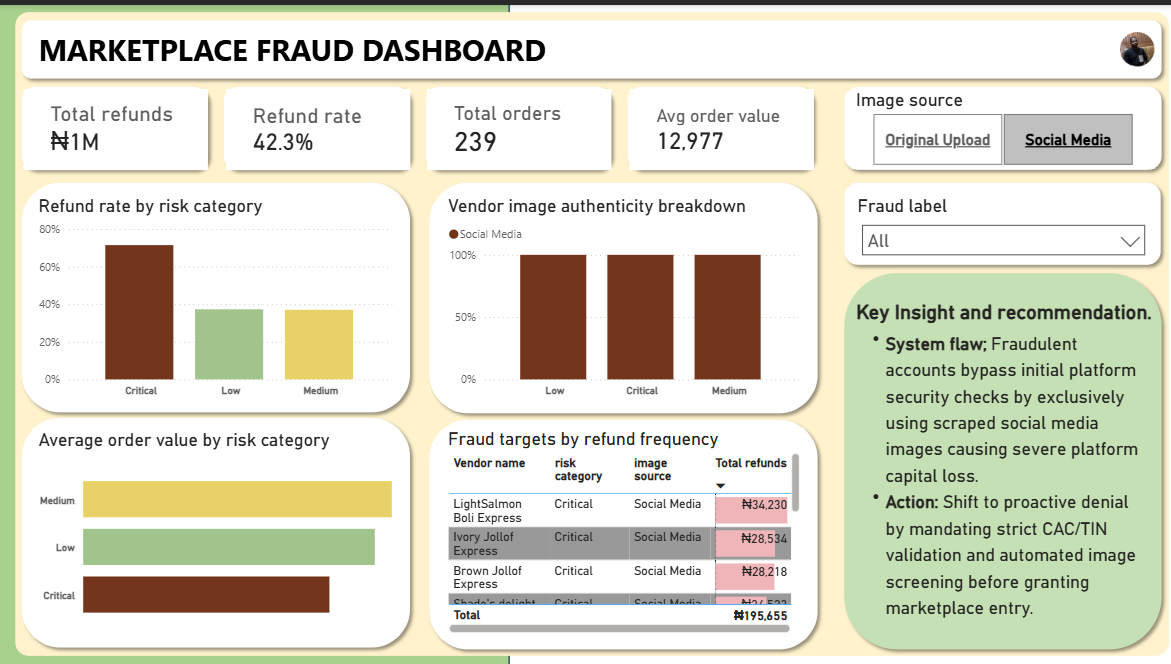

What the dashboard file says about the page in this screenshot:
{"tool":"powerbi","page":{"name":"Page 1","canvas":[1280,720],"ordinal":0},"visuals":[{"type":"cardVisual","fields":{"Data":["_key_measures.Total amount refunded"]},"box":[27.7,91.1,200.1,87.8],"z":0},{"type":"cardVisual","fields":{"Data":["_key_measures.Total refund rate %"]},"box":[247.2,91.1,200.1,87.8],"z":1000},{"type":"cardVisual","fields":{"Data":["_key_measures.Total orders"]},"box":[465.2,91.1,200.1,87.8],"z":2000},{"type":"cardVisual","fields":{"Data":["_key_measures.Average order value"]},"box":[684.8,91.1,200.1,87.8],"z":3000},{"type":"clusteredColumnChart","title":"Refund rate by risk category","fields":{"Y":["_key_measures.Refund rate"],"Category":["marketplace_fraud vendors.risk_category"]},"box":[39,206.6,393.6,226.1],"z":4000},{"type":"clusteredBarChart","title":"Average order value by risk category","fields":{"Category":["marketplace_fraud vendors.risk_category"],"Y":["_key_measures.Avg order value"]},"box":[39,460.3,393.6,226.1],"z":5000},{"type":"hundredPercentStackedColumnChart","title":"Vendor image authenticity breakdown","fields":{"Category":["marketplace_fraud vendors.risk_category"],"Y":["_key_measures.Total vendors"],"Series":["marketplace_fraud images.image_source"]},"box":[483.1,206.6,390.4,226.1],"z":6000},{"type":"tableEx","title":"Fraud targets by refund frequency","fields":{"Values":["marketplace_fraud vendors.restaurant_name","marketplace_fraud vendors.risk_category","marketplace_fraud images.image_source","_key_measures.Total refunds"]},"box":[483.8,459.2,391.2,226.8],"z":7000},{"type":"slicer","title":"Image source","fields":{"Values":["marketplace_fraud images.image_source"]},"box":[926,90.7,328.8,86.9],"z":8000},{"type":"slicer","title":"Fraud label","fields":{"Values":["marketplace_fraud vendors.fraud_label"]},"box":[927.1,206.6,326.9,68.3],"z":9000},{"type":"textbox","title":"Key Insight and recommendation.","box":[925.5,320.4,330.2,351.3],"z":10000},{"type":"textbox","box":[39,21.1,705.9,53.7],"z":11000},{"type":"image","box":[1216.7,29.3,37.4,37.4],"z":12000}]}

Visuals, with their boxes in screenshot pixels (x1, y1, x2, y2), scaled from the page's 1280x720 canvas onto the 1171x664 screenshot:
cardVisual - _key_measures.Total amount refunded: box=[25, 84, 208, 165]
cardVisual - _key_measures.Total refund rate %: box=[226, 84, 409, 165]
cardVisual - _key_measures.Total orders: box=[426, 84, 609, 165]
cardVisual - _key_measures.Average order value: box=[626, 84, 810, 165]
"Refund rate by risk category" clusteredColumnChart: box=[36, 191, 396, 399]
"Average order value by risk category" clusteredBarChart: box=[36, 424, 396, 633]
"Vendor image authenticity breakdown" hundredPercentStackedColumnChart: box=[442, 191, 799, 399]
"Fraud targets by refund frequency" tableEx: box=[443, 423, 800, 633]
"Image source" slicer: box=[847, 84, 1148, 164]
"Fraud label" slicer: box=[848, 191, 1147, 254]
"Key Insight and recommendation." textbox: box=[847, 295, 1149, 619]
textbox: box=[36, 19, 681, 69]
image: box=[1113, 27, 1147, 62]
